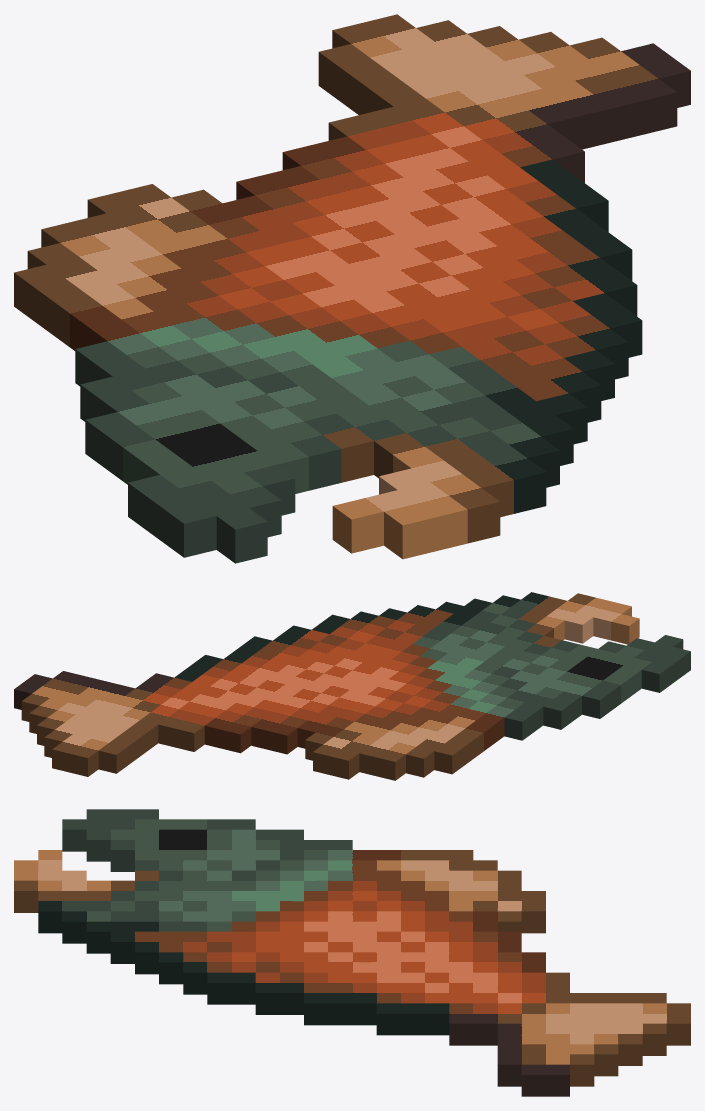
Rendered from SM_Cooked_Salmon.fbx.
3 renders of one model, top to bottom at view 1: azimuth 30°, elevation 25°; view 2: azimuth 150°, elevation 25°; view 3: azimuth 270°, elevation 25°, orthographic. The views are drawn at different scales.
Visible parts, largest first — view 1: T_Cooked_Salmon_12; view 2: T_Cooked_Salmon_12; view 3: T_Cooked_Salmon_12.
Part boxes in pixels (x1=…): T_Cooked_Salmon_12: x1=14, y1=14, x2=690, y2=563; T_Cooked_Salmon_12: x1=14, y1=592, x2=690, y2=780; T_Cooked_Salmon_12: x1=14, y1=809, x2=690, y2=1096.
Bounding box in the file's own units: 13.11 × 0.5042 × 14.12.
